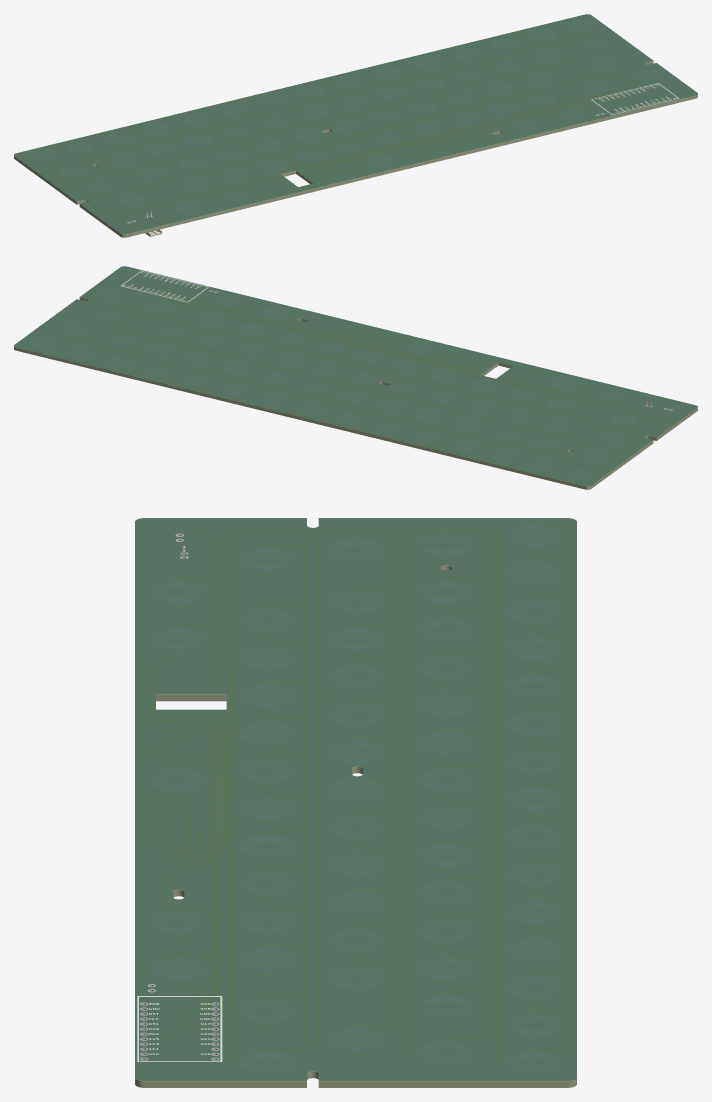
Rendered from YAKB-populated.glb.
3 renders of one model, top to bottom at view 1: azimuth 30°, elevation 25°; view 2: azimuth 150°, elevation 25°; view 3: azimuth 270°, elevation 25°, orthographic. The views are drawn at different scales.
Parts seen in each view (by area): view 1: =>[0:1:1:19], =>[0:1:1:21], =>[0:1:1:15]; view 2: =>[0:1:1:19], =>[0:1:1:21], =>[0:1:1:15]; view 3: =>[0:1:1:19], =>[0:1:1:21], =>[0:1:1:15], =>[0:1:1:14], =>[0:1:1:17].
Boxes of the visible parts, bbox=[...] form: =>[0:1:1:19]: bbox=[14, 14, 697, 234]; =>[0:1:1:21]: bbox=[14, 15, 697, 237]; =>[0:1:1:15]: bbox=[28, 20, 676, 223]; =>[0:1:1:19]: bbox=[14, 266, 697, 486]; =>[0:1:1:21]: bbox=[14, 267, 697, 489]; =>[0:1:1:15]: bbox=[28, 271, 672, 479]; =>[0:1:1:19]: bbox=[135, 518, 576, 1080]; =>[0:1:1:21]: bbox=[135, 519, 576, 1087]; =>[0:1:1:15]: bbox=[140, 525, 566, 1074]; =>[0:1:1:14]: bbox=[156, 522, 571, 1062]; =>[0:1:1:17]: bbox=[137, 996, 222, 1061].
Size of the model in its own units: 0.285 by 0.00825 by 0.0946.
